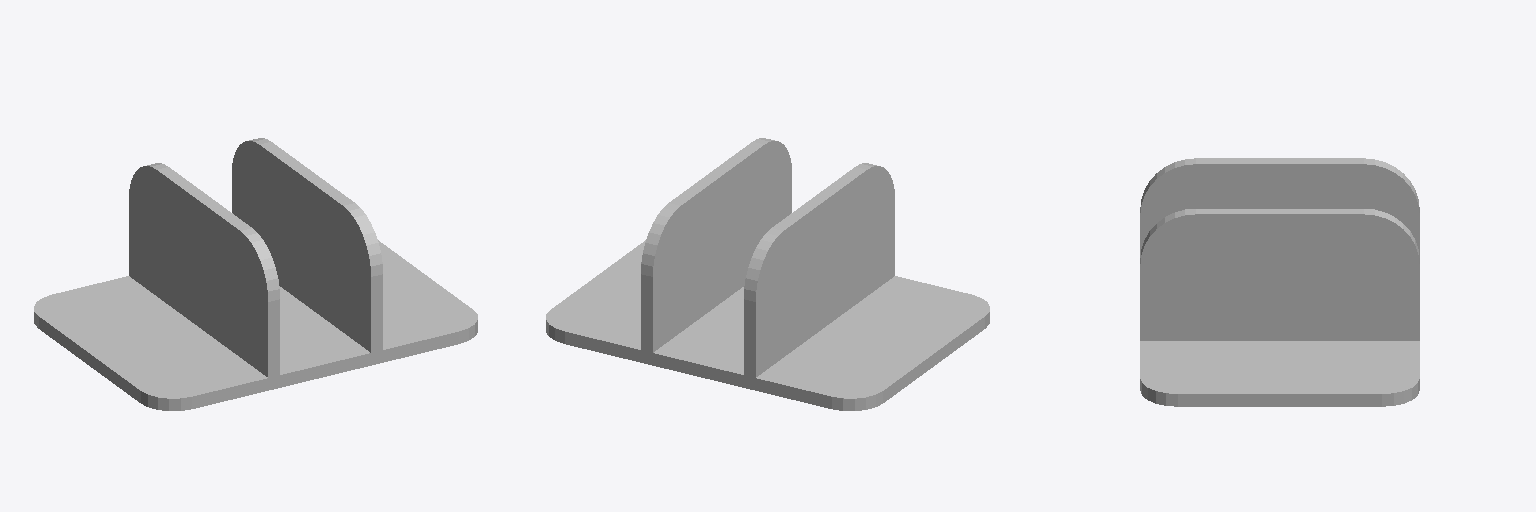
Rendered from Clarke foot sign.obj.
3 renders of one model, left to right at view 1: azimuth 30°, elevation 25°; view 2: azimuth 150°, elevation 25°; view 3: azimuth 270°, elevation 25°, orthographic.
Parts seen in each view (by area): view 1: pPlane3; view 2: pPlane3; view 3: pPlane3.
Boxes of the visible parts, <box> form: pPlane3: <box>34,138,477,410</box>; pPlane3: <box>546,138,989,410</box>; pPlane3: <box>1140,158,1419,406</box>.
Size of the model in its own units: 6.99 by 2.79 by 5.08.